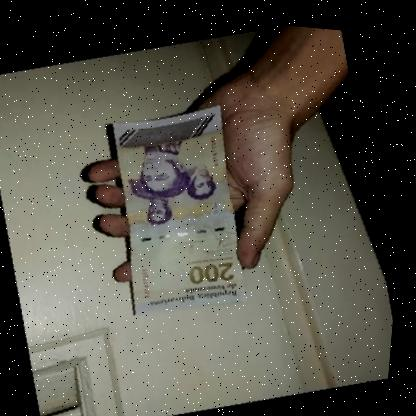two_hundred-front-vef: (99, 90, 264, 321)
